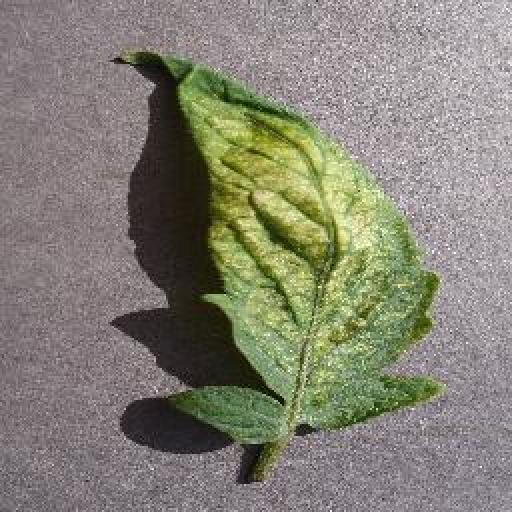disease_tomato: (116, 47, 444, 440)
